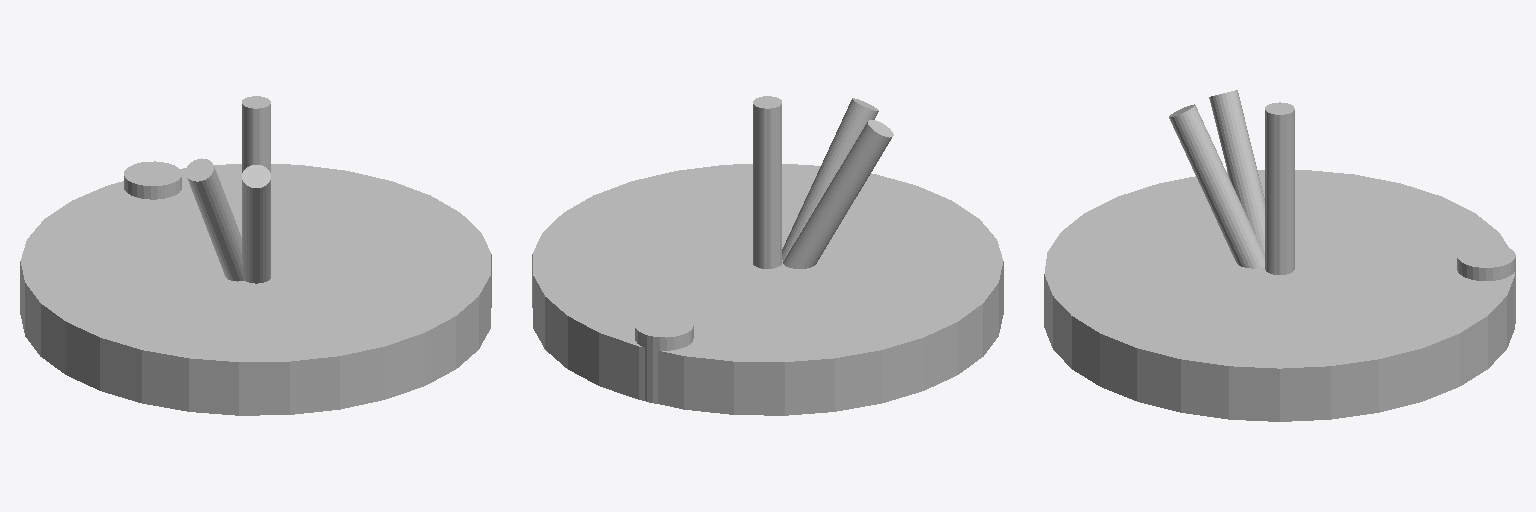
--- Render facts (derived) ---
Views: 3 orthographic renders of the robot side by side, from view 1: azimuth 30°, elevation 25°; view 2: azimuth 150°, elevation 25°; view 3: azimuth 270°, elevation 25°.
Model hexapod with 26 links and 25 joints (18 revolute, 7 fixed), rooted at world, posed all joints at 0.
Visible links, largest first — view 1: body, tibia_R3, tibia_L3, tibia_R1, tibia_L1; view 2: body, tibia_R3, tibia_L3, tibia_L1, tibia_R1, tibia_L2, femur_R3, tibia_R2; view 3: body, tibia_L3, tibia_R3, tibia_R1, tibia_L1, femur_L3, tibia_L2, tibia_R2.
Boxes of the visible links, x1=… form: body: x1=20, y1=161, x2=491, y2=415; tibia_R3: x1=186, y1=158, x2=244, y2=281; tibia_L3: x1=242, y1=165, x2=270, y2=283; tibia_R1: x1=242, y1=97, x2=268, y2=169; tibia_L1: x1=243, y1=96, x2=270, y2=172; body: x1=532, y1=164, x2=1003, y2=415; tibia_R3: x1=784, y1=120, x2=893, y2=268; tibia_L3: x1=782, y1=98, x2=878, y2=259; tibia_L1: x1=754, y1=96, x2=781, y2=268; tibia_R1: x1=753, y1=96, x2=781, y2=267; tibia_L2: x1=754, y1=97, x2=781, y2=268; femur_R3: x1=783, y1=217, x2=834, y2=268; tibia_R2: x1=756, y1=96, x2=781, y2=267; body: x1=1044, y1=170, x2=1515, y2=421; tibia_L3: x1=1169, y1=104, x2=1264, y2=267; tibia_R3: x1=1209, y1=90, x2=1264, y2=254; tibia_R1: x1=1265, y1=103, x2=1292, y2=274; tibia_L1: x1=1265, y1=105, x2=1292, y2=274; femur_L3: x1=1220, y1=212, x2=1264, y2=268; tibia_L2: x1=1268, y1=103, x2=1294, y2=274; tibia_R2: x1=1265, y1=102, x2=1294, y2=274.
Bounding box of the posed robot: 0.1595 × 0.1598 × 0.0824 m (x, y, z).
13 mesh visuals loaded from 3 distinct referenced files (3 Collada DAE).

The robot description file, URDF, robot "hexapod":
<robot name="hexapod">
    <!-- ========================== Body Link ========================== -->

    <link name="world"/>
    <joint name="base_joint" type="fixed">
        <origin xyz="0 0 0.5" rpy="0 0 0"/>
        <parent link="world"/>
        <child link="body"/>
    </joint>
    <link name="body">
        <inertial>
            <!-- <origin xyz="0.0 0.0 0.01" rpy="0.0 0.0 0.0"/> -->
            <mass value="1.0"/>
            <inertia ixx="0.0008458" iyy="0.0008458" izz="0.0016245" ixy="0.0" ixz="0.0" iyz="0.0"/>
        </inertial>
        <visual>
            <!-- <origin xyz="0.0 0.0 0.0" rpy="0.0 0.0 0.0"/> -->
            <geometry>
                <mesh filename="package://hexapod_description/meshes/base.dae"/>
            </geometry>
        </visual>
        <collision>
            <!-- <origin xyz="0.0 0.0 0.0" rpy="0.0 0.0 0.0"/> -->
            <geometry>
                <mesh filename="package://hexapod_description/meshes/base.dae"/>
            </geometry>
        </collision>
    </link>

    <!-- ========================== Hip Links ========================== -->

    <link name="hip_L1">
        <inertial>
            <!-- <origin xyz="0.0 0.0 0.0" rpy="0.0 0.0 0.0"/> -->
            <mass value="0.001"/>
            <inertia ixx="0.0001" iyy="0.0001" izz="0.000001" ixy="0.0" ixz="0.0" iyz="0.0"/>
        </inertial>
        <!-- <visual>
            <origin xyz="0.0 0.0 0.0" rpy="0.0 0.0 0.0"/>
            <geometry>
                <mesh filename="package://hexapod_description/meshes/femur.dae"/>
            </geometry>
        </visual>
        <collision>
            <origin xyz="0.0 0.0 0.0" rpy="0.0 0.0 0.0"/>
            <geometry>
                <mesh filename="package://hexapod_description/meshes/femur.dae"/>
            </geometry>
        </collision> -->
    </link>
    <link name="hip_R1">
        <inertial>
            <!-- <origin xyz="0.0 0.0 0.0" rpy="0.0 0.0 0.0"/> -->
            <mass value="0.001"/>
            <inertia ixx="0.0001" iyy="0.0001" izz="0.000001" ixy="0.0" ixz="0.0" iyz="0.0"/>
        </inertial>
        <!-- <visual>
            <origin xyz="0.0 0.0 0.0" rpy="0.0 0.0 0.0"/>
            <geometry>
                <mesh filename="package://hexapod_description/meshes/femur.dae"/>
            </geometry>
        </visual>
        <collision>
            <origin xyz="0.0 0.0 0.0" rpy="0.0 0.0 0.0"/>
            <geometry>
                <mesh filename="package://hexapod_description/meshes/femur.dae"/>
            </geometry>
        </collision> -->
    </link>
    <link name="hip_L2">
        <inertial>
            <!-- <origin xyz="0.0 0.0 0.0" rpy="0.0 0.0 0.0"/> -->
            <mass value="0.001"/>
            <inertia ixx="0.0001" iyy="0.0001" izz="0.000001" ixy="0.0" ixz="0.0" iyz="0.0"/>
        </inertial>
        <!-- <visual>
            <origin xyz="0.0 0.0 0.0" rpy="0.0 0.0 0.0"/>
            <geometry>
                <mesh filename="package://hexapod_description/meshes/femur.dae"/>
            </geometry>
        </visual>
        <collision>
            <origin xyz="0.0 0.0 0.0" rpy="0.0 0.0 0.0"/>
            <geometry>
                <mesh filename="package://hexapod_description/meshes/femur.dae"/>
            </geometry>
        </collision> -->
    </link>
    <link name="hip_R2">
        <inertial>
            <!-- <origin xyz="0.0 0.0 0.0" rpy="0.0 0.0 0.0"/> -->
            <mass value="0.001"/>
            <inertia ixx="0.0001" iyy="0.0001" izz="0.000001" ixy="0.0" ixz="0.0" iyz="0.0"/>
        </inertial>
        <!-- <visual>
            <origin xyz="0.0 0.0 0.0" rpy="0.0 0.0 0.0"/>
            <geometry>
                <mesh filename="package://hexapod_description/meshes/femur.dae"/>
            </geometry>
        </visual>
        <collision>
            <origin xyz="0.0 0.0 0.0" rpy="0.0 0.0 0.0"/>
            <geometry>
                <mesh filename="package://hexapod_description/meshes/femur.dae"/>
            </geometry>
        </collision> -->
    </link>
    <link name="hip_L3">
        <inertial>
            <!-- <origin xyz="0.0 0.0 0.0" rpy="0.0 0.0 0.0"/> -->
            <mass value="0.001"/>
            <inertia ixx="0.0001" iyy="0.0001" izz="0.000001" ixy="0.0" ixz="0.0" iyz="0.0"/>
        </inertial>
        <!-- <visual>
            <origin xyz="0.0 0.0 0.0" rpy="0.0 0.0 0.0"/>
            <geometry>
                <mesh filename="package://hexapod_description/meshes/femur.dae"/>
            </geometry>
        </visual>
        <collision>
            <origin xyz="0.0 0.0 0.0" rpy="0.0 0.0 0.0"/>
            <geometry>
                <mesh filename="package://hexapod_description/meshes/femur.dae"/>
            </geometry>
        </collision> -->
    </link>
    <link name="hip_R3">
        <inertial>
            <!-- <origin xyz="0.0 0.0 0.0" rpy="0.0 0.0 0.0"/> -->
            <mass value="0.001"/>
            <inertia ixx="0.0001" iyy="0.0001" izz="0.000001" ixy="0.0" ixz="0.0" iyz="0.0"/>
        </inertial>
        <!-- <visual>
            <origin xyz="0.0 0.0 0.0" rpy="0.0 0.0 0.0"/>
            <geometry>
                <mesh filename="package://hexapod_description/meshes/femur.dae"/>
            </geometry>
        </visual>
        <collision>
            <origin xyz="0.0 0.0 0.0" rpy="0.0 0.0 0.0"/>
            <geometry>
                <mesh filename="package://hexapod_description/meshes/femur.dae"/>
            </geometry>
        </collision> -->
    </link>

    <!-- ========================== Femur Links ========================== -->

    <link name="femur_L1">
        <inertial>
            <!-- <origin xyz="0.0 0.0 0.0" rpy="0.0 0.0 0.0"/> -->
            <mass value="0.2"/>
            <inertia ixx="0.00010667" iyy="0.00010667" izz="0.0000025" ixy="0.0" ixz="0.0" iyz="0.0"/>
        </inertial>
        <visual>
            <!-- <origin xyz="0.0 0.0 0.0" rpy="0.0 0.0 0.0"/> -->
            <geometry>
                <mesh filename="package://hexapod_description/meshes/femur.dae"/>
            </geometry>
        </visual>
        <!-- <collision>
            <origin xyz="0.0 0.0 0.0" rpy="0.0 0.0 0.0"/>
            <geometry>
                <mesh filename="package://hexapod_description/meshes/femur.dae"/>
            </geometry>
        </collision> -->
    </link>
    <link name="femur_R1">
        <inertial>
            <!-- <origin xyz="0.0 0.0 0.0" rpy="0.0 0.0 0.0"/> -->
            <mass value="0.2"/>
            <inertia ixx="0.00010667" iyy="0.00010667" izz="0.0000025" ixy="0.0" ixz="0.0" iyz="0.0"/>
        </inertial>
        <visual>
            <!-- <origin xyz="0.0 0.0 0.0" rpy="0.0 0.0 0.0"/> -->
            <geometry>
                <mesh filename="package://hexapod_description/meshes/femur.dae"/>
            </geometry>
        </visual>
        <!-- <collision>
            <origin xyz="0.0 0.0 0.0" rpy="0.0 0.0 0.0"/>
            <geometry>
                <mesh filename="package://hexapod_description/meshes/femur.dae"/>
            </geometry>
        </collision> -->
    </link>
    <link name="femur_L2">
        <inertial>
            <!-- <origin xyz="0.0 0.0 0.0" rpy="0.0 0.0 0.0"/> -->
            <mass value="0.2"/>
            <inertia ixx="0.00010667" iyy="0.00010667" izz="0.0000025" ixy="0.0" ixz="0.0" iyz="0.0"/>
        </inertial>
        <visual>
            <!-- <origin xyz="0.0 0.0 0.0" rpy="0.0 0.0 0.0"/> -->
            <geometry>
                <mesh filename="package://hexapod_description/meshes/femur.dae"/>
            </geometry>
        </visual>
        <!-- <collision>
            <origin xyz="0.0 0.0 0.0" rpy="0.0 0.0 0.0"/>
            <geometry>
                <mesh filename="package://hexapod_description/meshes/femur.dae"/>
            </geometry>
        </collision> -->
    </link>
    <link name="femur_R2">
        <inertial>
            <!-- <origin xyz="0.0 0.0 0.0" rpy="0.0 0.0 0.0"/> -->
            <mass value="0.2"/>
            <inertia ixx="0.00010667" iyy="0.00010667" izz="0.0000025" ixy="0.0" ixz="0.0" iyz="0.0"/>
        </inertial>
        <visual>
            <!-- <origin xyz="0.0 0.0 0.0" rpy="0.0 0.0 0.0"/> -->
            <geometry>
                <mesh filename="package://hexapod_description/meshes/femur.dae"/>
            </geometry>
        </visual>
        <!-- <collision>
            <origin xyz="0.0 0.0 0.0" rpy="0.0 0.0 0.0"/>
            <geometry>
                <mesh filename="package://hexapod_description/meshes/femur.dae"/>
            </geometry>
        </collision> -->
    </link>
    <link name="femur_L3">
        <inertial>
            <!-- <origin xyz="0.0 0.0 0.0" rpy="0.0 0.0 0.0"/> -->
            <mass value="0.2"/>
            <inertia ixx="0.00010667" iyy="0.00010667" izz="0.0000025" ixy="0.0" ixz="0.0" iyz="0.0"/>
        </inertial>
        <visual>
            <!-- <origin xyz="0.0 0.0 0.0" rpy="0.0 0.0 0.0"/> -->
            <geometry>
                <mesh filename="package://hexapod_description/meshes/femur.dae"/>
            </geometry>
        </visual>
        <!-- <collision>
            <origin xyz="0.0 0.0 0.0" rpy="0.0 0.0 0.0"/>
            <geometry>
                <mesh filename="package://hexapod_description/meshes/femur.dae"/>
            </geometry>
        </collision> -->
    </link>
    <link name="femur_R3">
        <inertial>
            <!-- <origin xyz="0.0 0.0 0.0" rpy="0.0 0.0 0.0"/> -->
            <mass value="0.2"/>
            <inertia ixx="0.00010667" iyy="0.00010667" izz="0.0000025" ixy="0.0" ixz="0.0" iyz="0.0"/>
        </inertial>
        <visual>
            <!-- <origin xyz="0.0 0.0 0.0" rpy="0.0 0.0 0.0"/> -->
            <geometry>
                <mesh filename="package://hexapod_description/meshes/femur.dae"/>
            </geometry>
        </visual>
        <!-- <collision>
            <origin xyz="0.0 0.0 0.0" rpy="0.0 0.0 0.0"/>
            <geometry>
                <mesh filename="package://hexapod_description/meshes/femur.dae"/>
            </geometry>
        </collision> -->
    </link>

    <!-- ========================== Tibia Links ========================== -->

    <link name="tibia_L1">
        <inertial>
            <!-- <origin xyz="0.0 0.0 0.0" rpy="0.0 0.0 0.0"/> -->
            <mass value="0.4"/>
            <inertia ixx="0.00085333" iyy="0.00085333" izz="0.000005" ixy="0.0" ixz="0.0" iyz="0.0"/>
        </inertial>
        <visual>
            <!-- <origin xyz="0.0 0.0 0.0" rpy="0.0 0.0 0.0"/> -->
            <geometry>
                <mesh filename="package://hexapod_description/meshes/tibia.dae"/>
            </geometry>
        </visual>
        <collision>
            <!-- <origin xyz="0.0 0.0 0.0" rpy="0.0 0.0 0.0"/> -->
            <geometry>
                <mesh filename="package://hexapod_description/meshes/tibia.dae"/>
            </geometry>
        </collision>
    </link>
    <link name="tibia_R1">
        <inertial>
            <!-- <origin xyz="0.0 0.0 0.0" rpy="0.0 0.0 0.0"/> -->
            <mass value="0.4"/>
            <inertia ixx="0.00085333" iyy="0.00085333" izz="0.000005" ixy="0.0" ixz="0.0" iyz="0.0"/>
        </inertial>
        <visual>
            <!-- <origin xyz="0.0 0.0 0.0" rpy="0.0 0.0 0.0"/> -->
            <geometry>
                <mesh filename="package://hexapod_description/meshes/tibia.dae"/>
            </geometry>
        </visual>
        <collision>
            <!-- <origin xyz="0.0 0.0 0.0" rpy="0.0 0.0 0.0"/> -->
            <geometry>
                <mesh filename="package://hexapod_description/meshes/tibia.dae"/>
            </geometry>
        </collision>
    </link>
    <link name="tibia_L2">
        <inertial>
            <!-- <origin xyz="0.0 0.0 0.0" rpy="0.0 0.0 0.0"/> -->
            <mass value="0.4"/>
            <inertia ixx="0.00085333" iyy="0.00085333" izz="0.000005" ixy="0.0" ixz="0.0" iyz="0.0"/>
        </inertial>
        <visual>
            <!-- <origin xyz="0.0 0.0 0.0" rpy="0.0 0.0 0.0"/> -->
            <geometry>
                <mesh filename="package://hexapod_description/meshes/tibia.dae"/>
            </geometry>
        </visual>
        <collision>
            <!-- <origin xyz="0.0 0.0 0.0" rpy="0.0 0.0 0.0"/> -->
            <geometry>
                <mesh filename="package://hexapod_description/meshes/tibia.dae"/>
            </geometry>
        </collision>
    </link>
    <link name="tibia_R2">
        <inertial>
            <!-- <origin xyz="0.0 0.0 0.0" rpy="0.0 0.0 0.0"/> -->
            <mass value="0.4"/>
            <inertia ixx="0.00085333" iyy="0.00085333" izz="0.000005" ixy="0.0" ixz="0.0" iyz="0.0"/>
        </inertial>
        <visual name="">
            <!-- <origin xyz="0.0 0.0 0.0" rpy="0.0 0.0 0.0"/> -->
            <geometry>
                <mesh filename="package://hexapod_description/meshes/tibia.dae"/>
            </geometry>
        </visual>
        <collision>
            <!-- <origin xyz="0.0 0.0 0.0" rpy="0.0 0.0 0.0"/> -->
            <geometry>
                <mesh filename="package://hexapod_description/meshes/tibia.dae"/>
            </geometry>
        </collision>
    </link>
    <link name="tibia_L3">
        <inertial>
            <!-- <origin xyz="0.0 0.0 0.0" rpy="0.0 0.0 0.0"/> -->
            <mass value="0.4"/>
            <inertia ixx="0.00085333" iyy="0.00085333" izz="0.000005" ixy="0.0" ixz="0.0" iyz="0.0"/>
        </inertial>
        <visual name="">
            <!-- <origin xyz="0.0 0.0 0.0" rpy="0.0 0.0 0.0"/> -->
            <geometry>
                <mesh filename="package://hexapod_description/meshes/tibia.dae"/>
            </geometry>
        </visual>
        <collision>
            <!-- <origin xyz="0.0 0.0 0.0" rpy="0.0 0.0 0.0"/> -->
            <geometry>
                <mesh filename="package://hexapod_description/meshes/tibia.dae"/>
            </geometry>
        </collision>
    </link>
    <link name="tibia_R3">
        <inertial>
            <!-- <origin xyz="0.0 0.0 0.0" rpy="0.0 0.0 0.0"/> -->
            <mass value="0.4"/>
            <inertia ixx="0.00085333" iyy="0.00085333" izz="0.000005" ixy="0.0" ixz="0.0" iyz="0.0"/>
        </inertial>
        <visual name="">
            <!-- <origin xyz="0.0 0.0 0.0" rpy="0.0 0.0 0.0"/> -->
            <geometry>
                <mesh filename="package://hexapod_description/meshes/tibia.dae"/>
            </geometry>
        </visual>
        <collision>
            <!-- <origin xyz="0.0 0.0 0.0" rpy="0.0 0.0 0.0"/> -->
            <geometry>
                <mesh filename="package://hexapod_description/meshes/tibia.dae"/>
            </geometry>
        </collision>
    </link>

    <!-- ======================= Gazebo collision ======================= -->

    <gazebo reference="tibia_L1">
        <kp>1000000.0</kp>    <!--contact stiffness-->
        <kd>100.0</kd>        <!--damping-->
        <collision name="tibia_L1_collision">
            <surface>
                <friction>
                    <ode>
                        <mu>1.0</mu>
                        <mu2>1.0</mu2>
                    </ode>
                </friction>
            </surface>
        </collision>
        <!-- <sensor name="tibia_L1_sensor" type="contact">
            <selfCollide>true</selfCollide>
            <alwaysOn>true</alwaysOn>
            <updateRate>40.0</updateRate>
            <contact>
                <collision>tibia_L1_collision</collision>
            </contact>
            <plugin name="gazebo_ros_bumper_controller" filename="libgazebo_ros_bumper.so">
                <bumperTopicName>tibia_L1_bumper</bumperTopicName>
                <frameName>world</frameName>
            </plugin>
        </sensor> -->
    </gazebo>
    <gazebo reference="tibia_R1">
        <kp>1000000.0</kp>    <!--contact stiffness-->
        <kd>100.0</kd>        <!--damping-->
        <collision name="tibia_R1_collision">
            <surface>
                <friction>
                    <ode>
                        <mu>1.0</mu>
                        <mu2>1.0</mu2>
                    </ode>
                </friction>
            </surface>
        </collision>
    </gazebo>
    <gazebo reference="tibia_L2">
        <kp>1000000.0</kp>    <!--contact stiffness-->
        <kd>100.0</kd>        <!--damping-->
        <collision name="tibia_L2_collision">
            <surface>
                <friction>
                    <ode>
                        <mu>1.0</mu>
                        <mu2>1.0</mu2>
                    </ode>
                </friction>
            </surface>
        </collision>
    </gazebo>
    <gazebo reference="tibia_R2">
        <kp>1000000.0</kp>    <!--contact stiffness-->
        <kd>100.0</kd>        <!--damping-->
        <collision name="tibia_R2_collision">
            <surface>
                <friction>
                    <ode>
                        <mu>1.0</mu>
                        <mu2>1.0</mu2>
                    </ode>
                </friction>
            </surface>
        </collision>
    </gazebo>
    <gazebo reference="tibia_L3">
        <kp>1000000.0</kp>    <!--contact stiffness-->
        <kd>100.0</kd>        <!--damping-->
        <collision name="tibia_L3_collision">
            <surface>
                <friction>
                    <ode>
                        <mu>1.0</mu>
                        <mu2>1.0</mu2>
                    </ode>
                </friction>
            </surface>
        </collision>
    </gazebo>
    <gazebo reference="tibia_R3">
        <kp>1000000.0</kp>    <!--contact stiffness-->
        <kd>100.0</kd>        <!--damping-->
        <collision name="tibia_R3_collision">
            <surface>
                <friction>
                    <ode>
                        <mu>1.0</mu>
                        <mu2>1.0</mu2>
                    </ode>
                </friction>
            </surface>
        </collision>
    </gazebo>

    <!-- ========================== Foot Links ========================== -->

    <link name="foot_L1"/>
    <link name="foot_R1"/>
    <link name="foot_L2"/>
    <link name="foot_R2"/>
    <link name="foot_L3"/>
    <link name="foot_R3"/>

    <!-- ========================== Hip1 Joints ========================== -->

    <joint name="joint_hip1_L1" type="revolute">
        <origin xyz="0.0 0.0 0.0" rpy="0 0 2.0944"/>
        <!-- <origin xyz="-0.02866 0.04964 0.0" rpy="0 0 2.0944"/> -->
        <limit lower="-3" upper="3" effort="30.0" velocity="6"/>
        <parent link="body"/>
        <child link="hip_L1"/>
        <axis xyz="0 0 1"/>
        <safety_controller k_position="100.0" k_velocity="40.0" soft_lower_limit="-3" soft_upper_limit="3"/>
    </joint>
    <joint name="joint_hip1_R1" type="revolute">
        <origin xyz="0.0 0.0 0.0" rpy="0 0 1.0472"/>
        <!-- <origin xyz="0.02866 0.04964 0.0" rpy="0 0 1.0472"/> -->
        <limit lower="-3" upper="3" effort="30.0" velocity="6"/>
        <parent link="body"/>
        <child link="hip_R1"/>
        <axis xyz="0 0 1"/>
        <safety_controller k_position="100.0" k_velocity="40.0" soft_lower_limit="-3" soft_upper_limit="3"/>
    </joint>
    <joint name="joint_hip1_L2" type="revolute">
        <origin xyz="0.0 0.0 0.0" rpy="0 0 3.1416"/>
        <!-- <origin xyz="-0.05732 0 0.0" rpy="0 0 3.1416"/> -->
        <limit lower="-3" upper="3" effort="30.0" velocity="6"/>
        <parent link="body"/>
        <child link="hip_L2"/>
        <axis xyz="0 0 1"/>
        <safety_controller k_position="100.0" k_velocity="40.0" soft_lower_limit="-3" soft_upper_limit="3"/>
    </joint>
    <joint name="joint_hip1_R2" type="revolute">
        <origin xyz="0.0 0.0 0.0" rpy="0 0 0"/>
        <!-- <origin xyz="0.05732 0.0 0.0" rpy="0 0 0"/> -->
        <limit lower="-3" upper="3" effort="30.0" velocity="6"/>
        <parent link="body"/>
        <child link="hip_R2"/>
        <axis xyz="0 0 1"/>
        <safety_controller k_position="100.0" k_velocity="40.0" soft_lower_limit="-3" soft_upper_limit="3"/>
    </joint>
    <joint name="joint_hip1_L3" type="revolute">
        <origin xyz="0.0 0.0 0.0" rpy="0 0.5 -2.0944"/>
        <!-- <origin xyz="-0.02866 -0.04964 0.0" rpy="0 0 -2.0944"/> -->
        <limit lower="-3" upper="3" effort="30.0" velocity="6"/>
        <parent link="body"/>
        <child link="hip_L3"/>
        <axis xyz="0 0 1"/>
        <safety_controller k_position="100.0" k_velocity="40.0" soft_lower_limit="-3" soft_upper_limit="3"/>
    </joint>
    <joint name="joint_hip1_R3" type="revolute">
        <origin xyz="0.0 0.0 0.0" rpy="0.5 0 -1.0472"/>
        <!-- <origin xyz="0.02866 -0.04964 0.0" rpy="0 0 -1.0472"/> -->
        <limit lower="-3" upper="3" effort="30.0" velocity="6"/>
        <parent link="body"/>
        <child link="hip_R3"/>
        <axis xyz="0 0 1"/>
        <safety_controller k_position="100.0" k_velocity="40.0" soft_lower_limit="-3" soft_upper_limit="3"/>
    </joint>

    <!-- ========================== Hip2 Joints ========================== -->

    <joint name="joint_hip2_L1" type="revolute">
        <origin xyz="0 0 0" rpy="0 0 0"/>
        <limit lower="-3" upper="3" effort="30.0" velocity="6"/>
        <parent link="hip_L1"/>
        <child link="femur_L1"/>
        <axis xyz="0 1 0"/>
        <safety_controller k_position="100.0" k_velocity="40.0" soft_lower_limit="-3" soft_upper_limit="3"/>
    </joint>
    <joint name="joint_hip2_R1" type="revolute">
        <origin xyz="0 0 0" rpy="0 0 0"/>
        <limit lower="-3" upper="3" effort="30.0" velocity="6"/>
        <parent link="hip_R1"/>
        <child link="femur_R1"/>
        <axis xyz="0 1 0"/>
        <safety_controller k_position="100.0" k_velocity="40.0" soft_lower_limit="-3" soft_upper_limit="3"/>
    </joint>
    <joint name="joint_hip2_L2" type="revolute">
        <origin xyz="0 0 0" rpy="0 0 0"/>
        <limit lower="-3" upper="3" effort="30.0" velocity="6"/>
        <parent link="hip_L2"/>
        <child link="femur_L2"/>
        <axis xyz="0 1 0"/>
        <safety_controller k_position="100.0" k_velocity="40.0" soft_lower_limit="-3" soft_upper_limit="3"/>
    </joint>
    <joint name="joint_hip2_R2" type="revolute">
        <origin xyz="0 0 0" rpy="0 0 0"/>
        <limit lower="-3" upper="3" effort="30.0" velocity="6"/>
        <parent link="hip_R2"/>
        <child link="femur_R2"/>
        <axis xyz="0 1 0"/>
        <safety_controller k_position="100.0" k_velocity="40.0" soft_lower_limit="-3" soft_upper_limit="3"/>
    </joint>
    <joint name="joint_hip2_L3" type="revolute">
        <origin xyz="0 0 0" rpy="0 0 0"/>
        <limit lower="-3" upper="3" effort="30.0" velocity="6"/>
        <parent link="hip_L3"/>
        <child link="femur_L3"/>
        <axis xyz="0 1 0"/>
        <safety_controller k_position="100.0" k_velocity="40.0" soft_lower_limit="-3" soft_upper_limit="3"/>
    </joint>
    <joint name="joint_hip2_R3" type="revolute">
        <origin xyz="0 0 0" rpy="0 0 0"/>
        <limit lower="-3" upper="3" effort="30.0" velocity="6"/>
        <parent link="hip_R3"/>
        <child link="femur_R3"/>
        <axis xyz="0 1 0"/>
        <safety_controller k_position="100.0" k_velocity="40.0" soft_lower_limit="-3" soft_upper_limit="3"/>
    </joint>

    <!-- ========================== Knee Joints ========================== -->

    <joint name="joint_knee_L1" type="revolute">
        <origin xyz="0 0 0" rpy="0 0 0"/>
        <limit lower="-3" upper="3" effort="30.0" velocity="6"/>
        <parent link="femur_L1"/>
        <child link="tibia_L1"/>
        <axis xyz="0 0 1"/>
        <safety_controller k_position="100.0" k_velocity="40.0" soft_lower_limit="-3" soft_upper_limit="3"/>
    </joint>
    <joint name="joint_knee_R1" type="revolute">
        <origin xyz="0 0 0" rpy="0 0 0"/>
        <limit lower="-3" upper="3" effort="30.0" velocity="6"/>
        <parent link="femur_R1"/>
        <child link="tibia_R1"/>
        <axis xyz="0 0 1"/>
        <safety_controller k_position="100.0" k_velocity="40.0" soft_lower_limit="-3" soft_upper_limit="3"/>
    </joint>
    <joint name="joint_knee_L2" type="revolute">
        <origin xyz="0 0 0" rpy="0 0 0"/>
        <limit lower="-3" upper="3" effort="30.0" velocity="6"/>
        <parent link="femur_L2"/>
        <child link="tibia_L2"/>
        <axis xyz="0 0 1"/>
        <safety_controller k_position="100.0" k_velocity="40.0" soft_lower_limit="-3" soft_upper_limit="3"/>
    </joint>
    <joint name="joint_knee_R2" type="revolute">
        <origin xyz="0 0 0" rpy="0 0 0"/>
        <limit lower="-3" upper="3" effort="30.0" velocity="6"/>
        <parent link="femur_R2"/>
        <child link="tibia_R2"/>
        <axis xyz="0 0 1"/>
        <safety_controller k_position="100.0" k_velocity="40.0" soft_lower_limit="-3" soft_upper_limit="3"/>
    </joint>
    <joint name="joint_knee_L3" type="revolute">
        <origin xyz="0 0 0" rpy="0 0 0"/>
        <limit lower="-3" upper="3" effort="30.0" velocity="6"/>
        <parent link="femur_L3"/>
        <child link="tibia_L3"/>
        <axis xyz="0 0 1"/>
        <safety_controller k_position="100.0" k_velocity="40.0" soft_lower_limit="-3" soft_upper_limit="3"/>
    </joint>
    <joint name="joint_knee_R3" type="revolute">
        <origin xyz="0 0 0" rpy="0 0 0"/>
        <limit lower="-3" upper="3" effort="30.0" velocity="6"/>
        <parent link="femur_R3"/>
        <child link="tibia_R3"/>
        <axis xyz="0 0 1"/>
        <safety_controller k_position="100.0" k_velocity="40.0" soft_lower_limit="-3" soft_upper_limit="3"/>
    </joint>

    <!-- ========================== Foot Joints ========================== -->

    <joint name="joint_foot_L1" type="fixed">
        <origin xyz="0 0 0.08" rpy="0 0 0 "/>
        <parent link="tibia_L1"/>
        <child link="foot_L1"/>
    </joint>
    <joint name="joint_foot_R1" type="fixed">
        <origin xyz="0 0 0.08" rpy="0 0 0 "/>
        <parent link="tibia_R1"/>
        <child link="foot_R1"/>
    </joint>
    <joint name="joint_foot_L2" type="fixed">
        <origin xyz="0 0 0.08" rpy="0 0 0 "/>
        <parent link="tibia_L2"/>
        <child link="foot_L2"/>
    </joint>
    <joint name="joint_foot_R2" type="fixed">
        <origin xyz="0 0 0.08" rpy="0 0 0 "/>
        <parent link="tibia_R2"/>
        <child link="foot_R2"/>
    </joint>
    <joint name="joint_foot_L3" type="fixed">
        <origin xyz="0 0 0.08" rpy="0 0 0 "/>
        <parent link="tibia_L3"/>
        <child link="foot_L3"/>
    </joint>
    <joint name="joint_foot_R3" type="fixed">
        <origin xyz="0 0 0.08" rpy="0 0 0 "/>
        <parent link="tibia_R3"/>
        <child link="foot_R3"/>
    </joint>

    <!-- ========================== Transmission ========================== -->

    <transmission name="trans_joint_hip1_L1">
        <type>transmission_interface/SimpleTransmission</type>
        <joint name="joint_hip1_L1">
            <hardwareInterface>hardware_interface/EffortJointInterface</hardwareInterface>
        </joint>
        <actuator name="joint_hip1_L1_motor">
            <hardwareInterface>hardware_interface/EffortJointInterface</hardwareInterface>
            <mechanicalReduction>1</mechanicalReduction>
        </actuator>
    </transmission>
    <transmission name="trans_joint_hip2_L1">
        <type>transmission_interface/SimpleTransmission</type>
        <joint name="joint_hip2_L1">
            <hardwareInterface>hardware_interface/EffortJointInterface</hardwareInterface>
        </joint>
        <actuator name="joint_hip2_L1_motor">
            <hardwareInterface>hardware_interface/EffortJointInterface</hardwareInterface>
            <mechanicalReduction>1</mechanicalReduction>
        </actuator>
    </transmission>
    <transmission name="trans_joint_knee_L1">
        <type>transmission_interface/SimpleTransmission</type>
        <joint name="joint_knee_L1">
            <hardwareInterface>hardware_interface/EffortJointInterface</hardwareInterface>
        </joint>
        <actuator name="joint_knee_L1_motor">
            <hardwareInterface>hardware_interface/EffortJointInterface</hardwareInterface>
            <mechanicalReduction>1</mechanicalReduction>
        </actuator>
    </transmission>

    <transmission name="trans_joint_hip1_R1">
        <type>transmission_interface/SimpleTransmission</type>
        <joint name="joint_hip1_R1">
            <hardwareInterface>hardware_interface/EffortJointInterface</hardwareInterface>
        </joint>
        <actuator name="joint_hip1_R1_motor">
            <hardwareInterface>hardware_interface/EffortJointInterface</hardwareInterface>
            <mechanicalReduction>1</mechanicalReduction>
        </actuator>
    </transmission>
    <transmission name="trans_joint_hip2_R1">
        <type>transmission_interface/SimpleTransmission</type>
        <joint name="joint_hip2_R1">
            <hardwareInterface>hardware_interface/EffortJointInterface</hardwareInterface>
        </joint>
        <actuator name="joint_hip2_R1_motor">
            <hardwareInterface>hardware_interface/EffortJointInterface</hardwareInterface>
            <mechanicalReduction>1</mechanicalReduction>
        </actuator>
    </transmission>
    <transmission name="trans_joint_knee_R1">
        <type>transmission_interface/SimpleTransmission</type>
        <joint name="joint_knee_R1">
            <hardwareInterface>hardware_interface/EffortJointInterface</hardwareInterface>
        </joint>
        <actuator name="joint_knee_R1_motor">
            <hardwareInterface>hardware_interface/EffortJointInterface</hardwareInterface>
            <mechanicalReduction>1</mechanicalReduction>
        </actuator>
    </transmission>

    <transmission name="trans_joint_hip1_L2">
        <type>transmission_interface/SimpleTransmission</type>
        <joint name="joint_hip1_L2">
            <hardwareInterface>hardware_interface/EffortJointInterface</hardwareInterface>
        </joint>
        <actuator name="joint_hip1_L2_motor">
            <hardwareInterface>hardware_interface/EffortJointInterface</hardwareInterface>
            <mechanicalReduction>1</mechanicalReduction>
        </actuator>
    </transmission>
    <transmission name="trans_joint_hip2_L2">
        <type>transmission_interface/SimpleTransmission</type>
        <joint name="joint_hip2_L2">
            <hardwareInterface>hardware_interface/EffortJointInterface</hardwareInterface>
        </joint>
        <actuator name="joint_hip2_L2_motor">
            <hardwareInterface>hardware_interface/EffortJointInterface</hardwareInterface>
            <mechanicalReduction>1</mechanicalReduction>
        </actuator>
    </transmission>
    <transmission name="trans_joint_knee_L2">
        <type>transmission_interface/SimpleTransmission</type>
        <joint name="joint_knee_L2">
            <hardwareInterface>hardware_interface/EffortJointInterface</hardwareInterface>
        </joint>
        <actuator name="joint_knee_L2_motor">
            <hardwareInterface>hardware_interface/EffortJointInterface</hardwareInterface>
            <mechanicalReduction>1</mechanicalReduction>
        </actuator>
    </transmission>

    <transmission name="trans_joint_hip1_R2">
        <type>transmission_interface/SimpleTransmission</type>
        <joint name="joint_hip1_R2">
            <hardwareInterface>hardware_interface/EffortJointInterface</hardwareInterface>
        </joint>
        <actuator name="joint_hip1_R2_motor">
            <hardwareInterface>hardware_interface/EffortJointInterface</hardwareInterface>
            <mechanicalReduction>1</mechanicalReduction>
        </actuator>
    </transmission>
    <transmission name="trans_joint_hip2_R2">
        <type>transmission_interface/SimpleTransmission</type>
        <joint name="joint_hip2_R2">
            <hardwareInterface>hardware_interface/EffortJointInterface</hardwareInterface>
        </joint>
        <actuator name="joint_hip2_R2_motor">
            <hardwareInterface>hardware_interface/EffortJointInterface</hardwareInterface>
            <mechanicalReduction>1</mechanicalReduction>
        </actuator>
    </transmission>
    <transmission name="trans_joint_knee_R2">
        <type>transmission_interface/SimpleTransmission</type>
        <joint name="joint_knee_R2">
            <hardwareInterface>hardware_interface/EffortJointInterface</hardwareInterface>
        </joint>
        <actuator name="joint_knee_R2_motor">
            <hardwareInterface>hardware_interface/EffortJointInterface</hardwareInterface>
            <mechanicalReduction>1</mechanicalReduction>
        </actuator>
    </transmission>

    <transmission name="trans_joint_hip1_L3">
        <type>transmission_interface/SimpleTransmission</type>
        <joint name="joint_hip1_L3">
            <hardwareInterface>hardware_interface/EffortJointInterface</hardwareInterface>
        </joint>
        <actuator name="joint_hip1_L3_motor">
            <hardwareInterface>hardware_interface/EffortJointInterface</hardwareInterface>
            <mechanicalReduction>1</mechanicalReduction>
        </actuator>
    </transmission>
    <transmission name="trans_joint_hip2_L3">
        <type>transmission_interface/SimpleTransmission</type>
        <joint name="joint_hip2_L3">
            <hardwareInterface>hardware_interface/EffortJointInterface</hardwareInterface>
        </joint>
        <actuator name="joint_hip2_L3_motor">
            <hardwareInterface>hardware_interface/EffortJointInterface</hardwareInterface>
            <mechanicalReduction>1</mechanicalReduction>
        </actuator>
    </transmission>
    <transmission name="trans_joint_knee_L3">
        <type>transmission_interface/SimpleTransmission</type>
        <joint name="joint_knee_L3">
            <hardwareInterface>hardware_interface/EffortJointInterface</hardwareInterface>
        </joint>
        <actuator name="joint_knee_L3_motor">
            <hardwareInterface>hardware_interface/EffortJointInterface</hardwareInterface>
            <mechanicalReduction>1</mechanicalReduction>
        </actuator>
    </transmission>

    <transmission name="trans_joint_hip1_R3">
        <type>transmission_interface/SimpleTransmission</type>
        <joint name="joint_hip1_R3">
            <hardwareInterface>hardware_interface/EffortJointInterface</hardwareInterface>
        </joint>
        <actuator name="joint_hip1_R3_motor">
            <hardwareInterface>hardware_interface/EffortJointInterface</hardwareInterface>
            <mechanicalReduction>1</mechanicalReduction>
        </actuator>
    </transmission>
    <transmission name="trans_joint_hip2_R3">
        <type>transmission_interface/SimpleTransmission</type>
        <joint name="joint_hip2_R3">
            <hardwareInterface>hardware_interface/EffortJointInterface</hardwareInterface>
        </joint>
        <actuator name="joint_hip2_R3_motor">
            <hardwareInterface>hardware_interface/EffortJointInterface</hardwareInterface>
            <mechanicalReduction>1</mechanicalReduction>
        </actuator>
    </transmission>
    <transmission name="trans_joint_knee_R3">
        <type>transmission_interface/SimpleTransmission</type>
        <joint name="joint_knee_R3">
            <hardwareInterface>hardware_interface/EffortJointInterface</hardwareInterface>
        </joint>
        <actuator name="joint_knee_R3_motor">
            <hardwareInterface>hardware_interface/EffortJointInterface</hardwareInterface>
            <mechanicalReduction>1</mechanicalReduction>
        </actuator>
    </transmission>

    <!-- ========================== IMU ========================== -->

    <!-- <gazebo>
        <plugin name="imu_plugin" filename="libgazebo_ros_imu.so">
            <alwaysOn>true</alwaysOn>
            <bodyName>body</bodyName>
            <topicName>imu</topicName>
            <serviceName>imu_service</serviceName>
            <gaussianNoise>0.0</gaussianNoise>
            <updateRate>40.0</updateRate>
        </plugin>
        <plugin name="gazebo_ros_control" filename="libgazebo_ros_control.so">
            <robotNamespace>/quadruped</robotNamespace>
        </plugin>
    </gazebo> -->

</robot>
